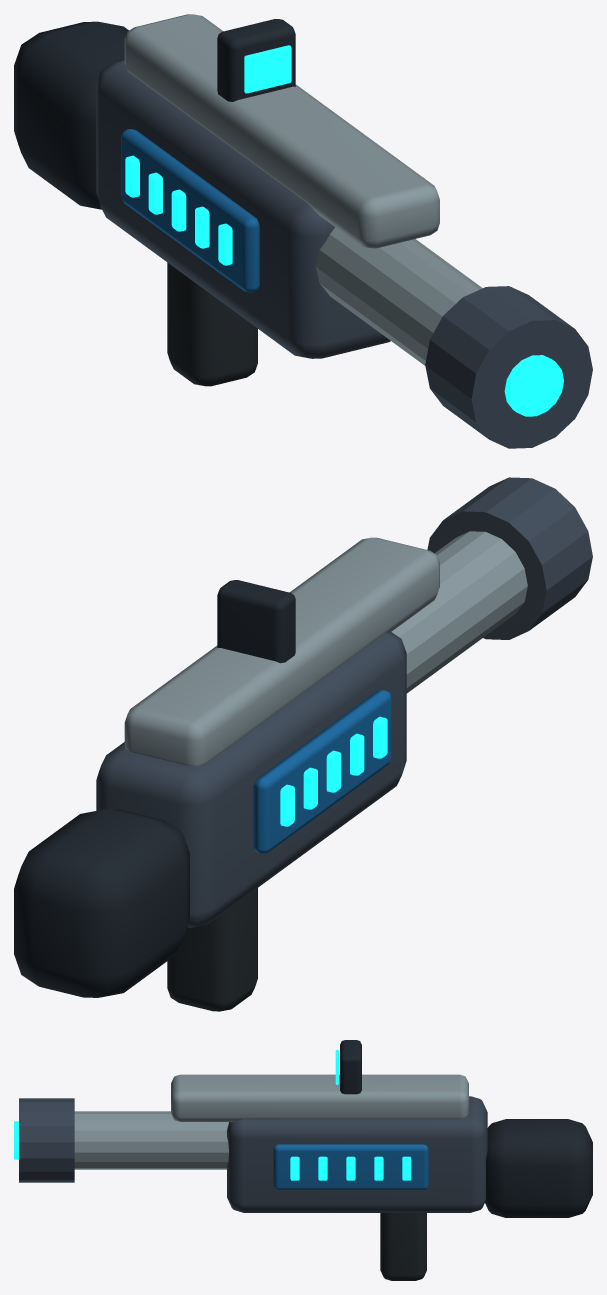
Rendered from rifle.glb.
3 views of the same model, one above another, from view 1: azimuth 30°, elevation 25°; view 2: azimuth 150°, elevation 25°; view 3: azimuth 270°, elevation 25° (orthographic). The views are drawn at different scales.
Parts seen in each view (by area): view 1: Rifle_Surface; view 2: Rifle_Surface; view 3: Rifle_Surface.
Boxes of the visible parts, x1,y1,x2,y2 form: Rifle_Surface: (14, 14, 592, 448); Rifle_Surface: (14, 477, 592, 1011); Rifle_Surface: (14, 1040, 592, 1280).
Bounding box in the file's own units: 0.184 × 0.4045 × 0.933.
